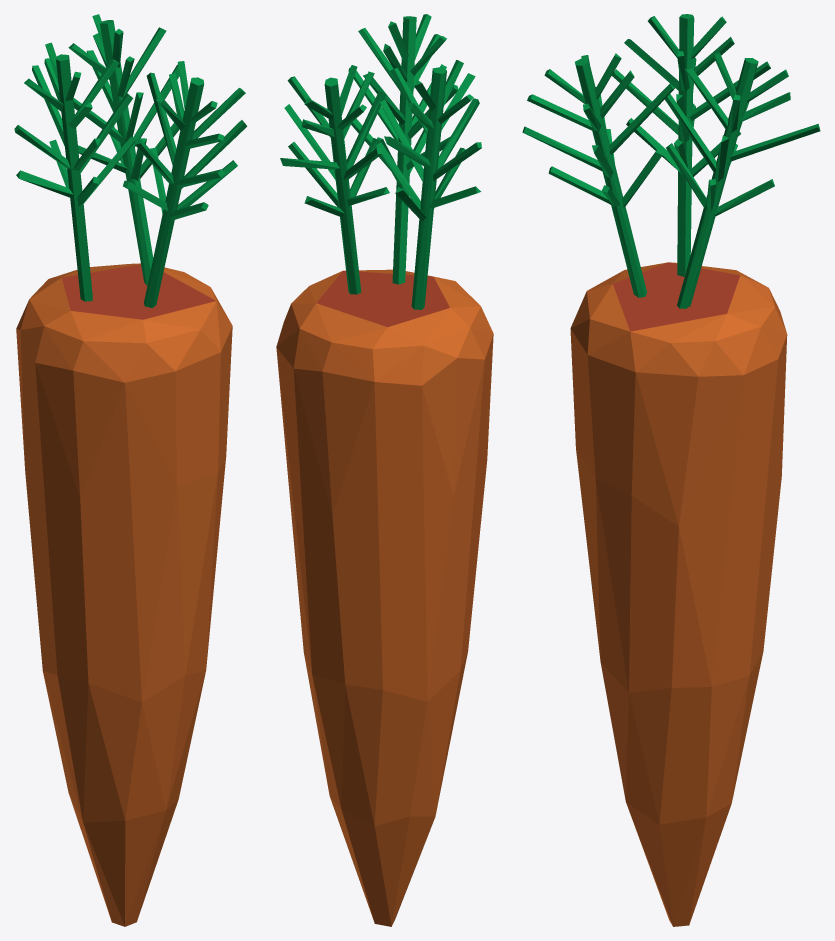
Rendered from Carrot.fbx.
The picture shows the model from 3 angles, left to right: view 1: azimuth 30°, elevation 25°; view 2: azimuth 150°, elevation 25°; view 3: azimuth 270°, elevation 25°; orthographic projection.
Visible parts, largest first — view 1: Carrot; view 2: Carrot; view 3: Carrot.
Part boxes in pixels (x1,y1,x2,y2): Carrot: [14, 14, 247, 926]; Carrot: [276, 14, 493, 926]; Carrot: [522, 14, 820, 926].
Bounding box in the file's own units: 0.0553 × 0.2367 × 0.0726.
